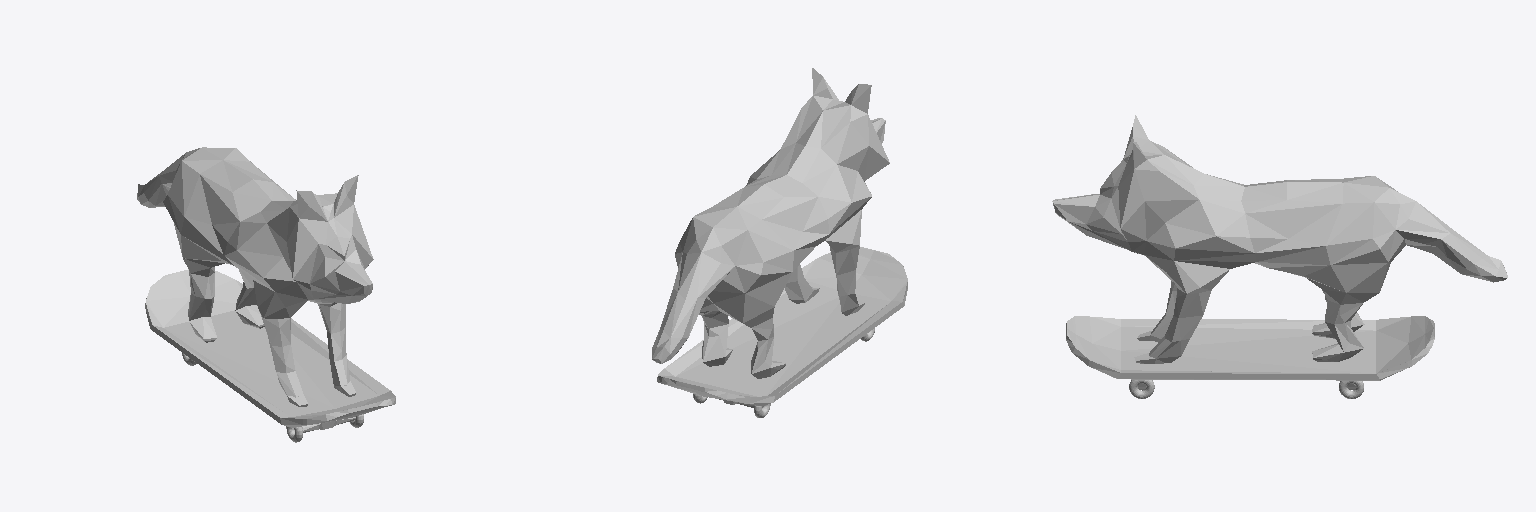
The model's file is WaschbaerSchritt3.obj.
The picture shows the model from 3 angles: view 1: azimuth 30°, elevation 25°; view 2: azimuth 150°, elevation 25°; view 3: azimuth 270°, elevation 25°; orthographic projection.
Parts seen in each view (by area): view 1: initialShadingGroup pCube1 polySurface1, initialShadingGroup pCube2 polySurface1; view 2: initialShadingGroup pCube1 polySurface1, initialShadingGroup pCube2 polySurface1; view 3: initialShadingGroup pCube1 polySurface1, initialShadingGroup pCube2 polySurface1.
Part boxes in pixels (left/top/right/bottom): initialShadingGroup pCube1 polySurface1: left=137, top=147, right=373, bottom=406; initialShadingGroup pCube2 polySurface1: left=145, top=269, right=395, bottom=432; initialShadingGroup pCube1 polySurface1: left=652, top=68, right=889, bottom=378; initialShadingGroup pCube2 polySurface1: left=657, top=247, right=907, bottom=407; initialShadingGroup pCube1 polySurface1: left=1052, top=115, right=1507, bottom=363; initialShadingGroup pCube2 polySurface1: left=1066, top=316, right=1434, bottom=390.
Bounding box in the file's own units: 3.58 × 7.88 × 12.71.